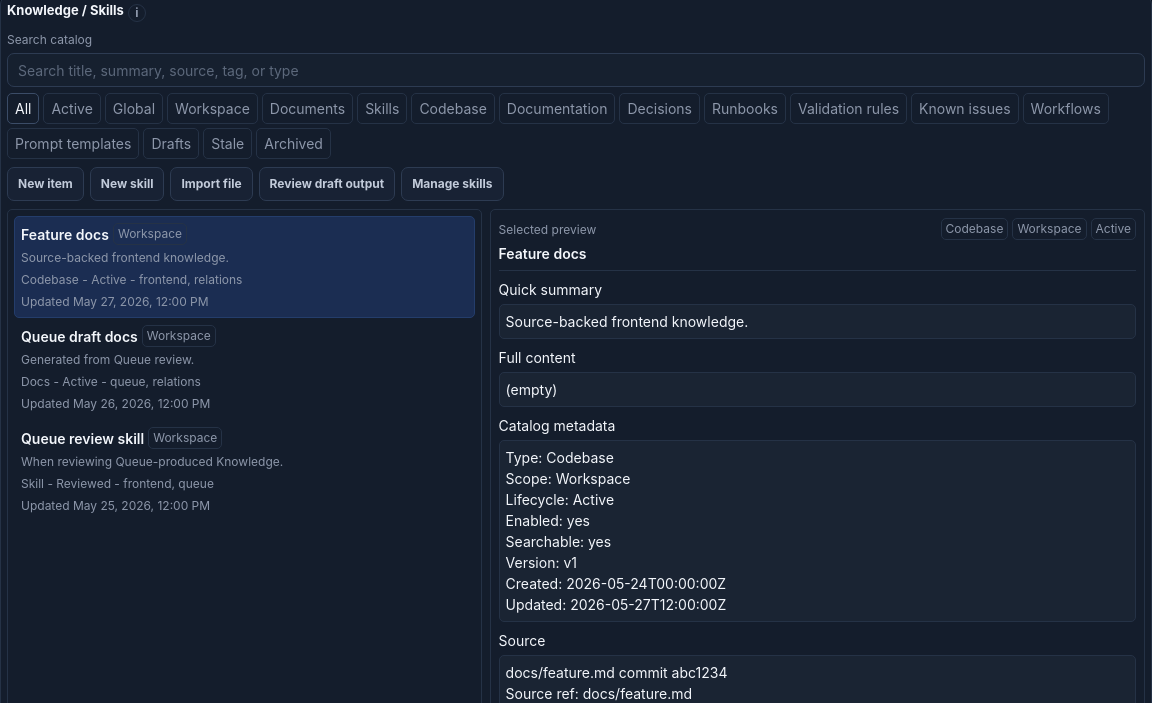
SkillLibraryWidget › shows lightweight Knowledge relations from saved metadata and current attachments
What coordinates should you click on to do the following:
click the button with class "skill-list-row" that starts with "Queue draft docs"
I would click on:
 (79, 336)
Its box is [14, 318, 475, 420].
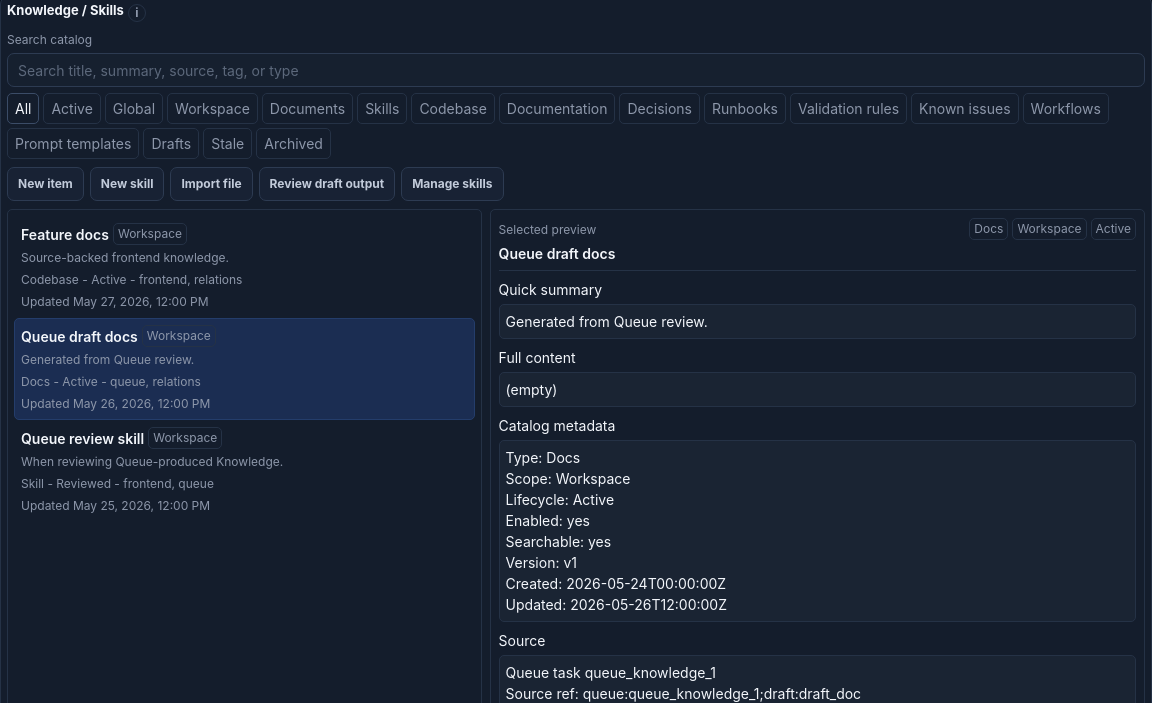
What coordinates should you click on to do the following:
click the button "Skills"
I would click on:
 (382, 108)
Its box is [357, 93, 407, 124].
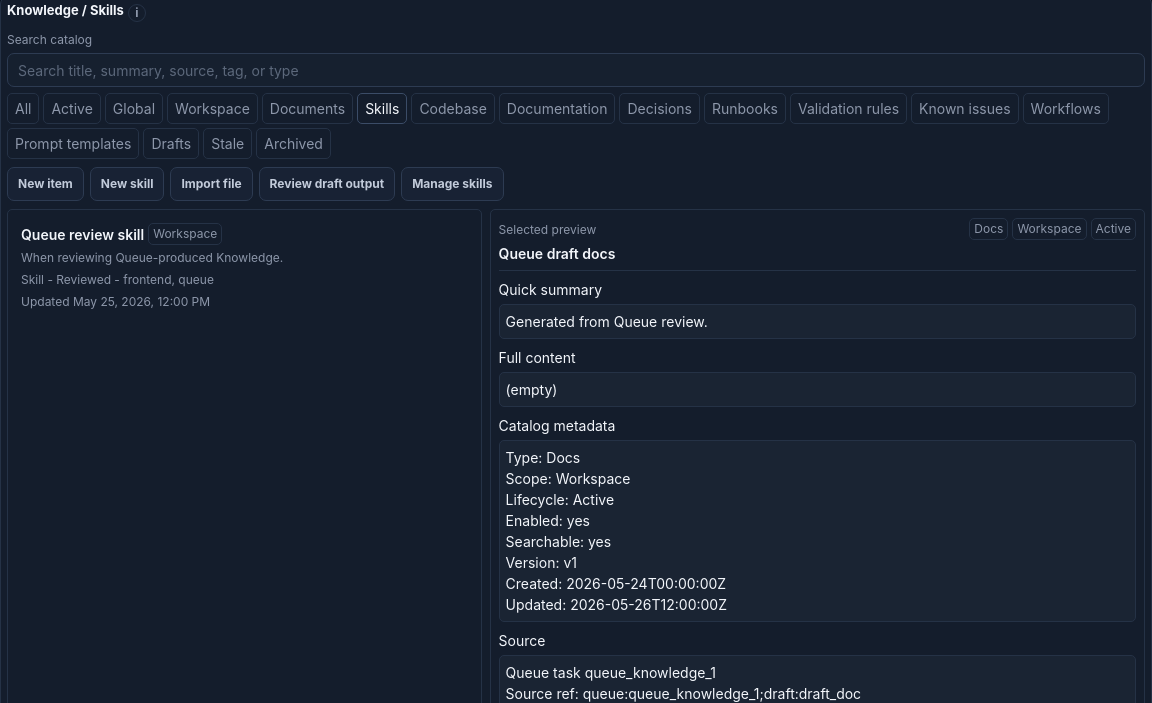
What coordinates should you click on to do the following:
click the button with class "skill-list-row"
I would click on:
 (244, 267)
Its box is [14, 216, 475, 318].
(page scrolled)
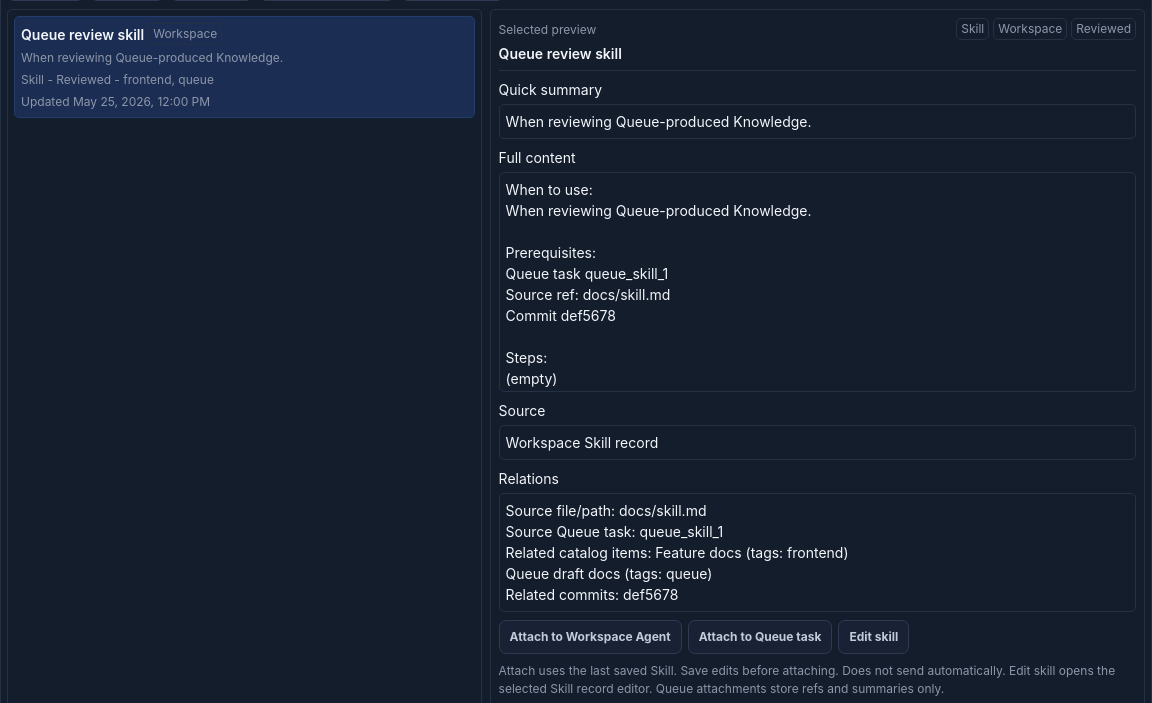
Expected: the text "Source file/path: docs/skill.md" is shown, [506, 502, 848, 603]
Expected: the text "Source Queue task: queue_skill_1" is shown, [506, 502, 848, 603]
Expected: the text "Related commits: def5678" is shown, [506, 502, 848, 603]
What coordinates should you click on to do the following:
click the button "Attach to Workspace Agent"
I would click on:
 (590, 637)
Its box is [499, 620, 682, 654].
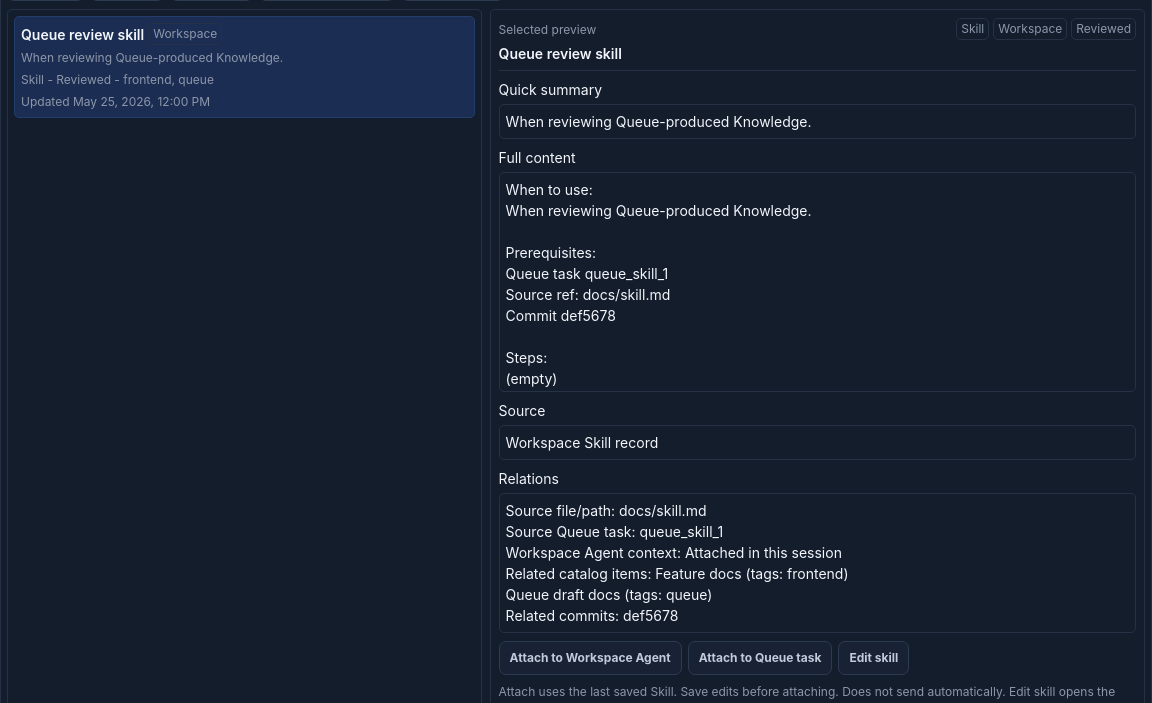
Expected: the text "Workspace Agent context: Attached in this session" is shown, [506, 502, 848, 624]
What coordinates should you click on to do the following:
click the button "Attach to Queue task"
I would click on:
 (760, 658)
Its box is [688, 641, 832, 675].
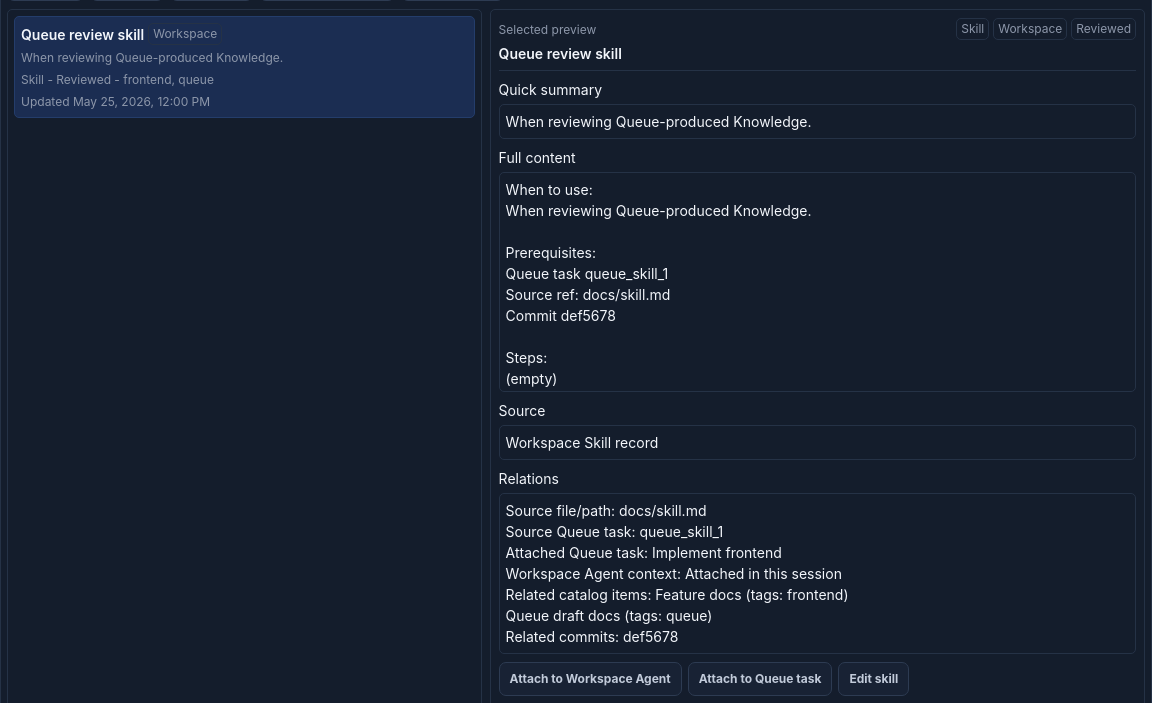
Expected: the text "Attached Queue task: Implement frontend" is shown, [506, 502, 848, 645]
